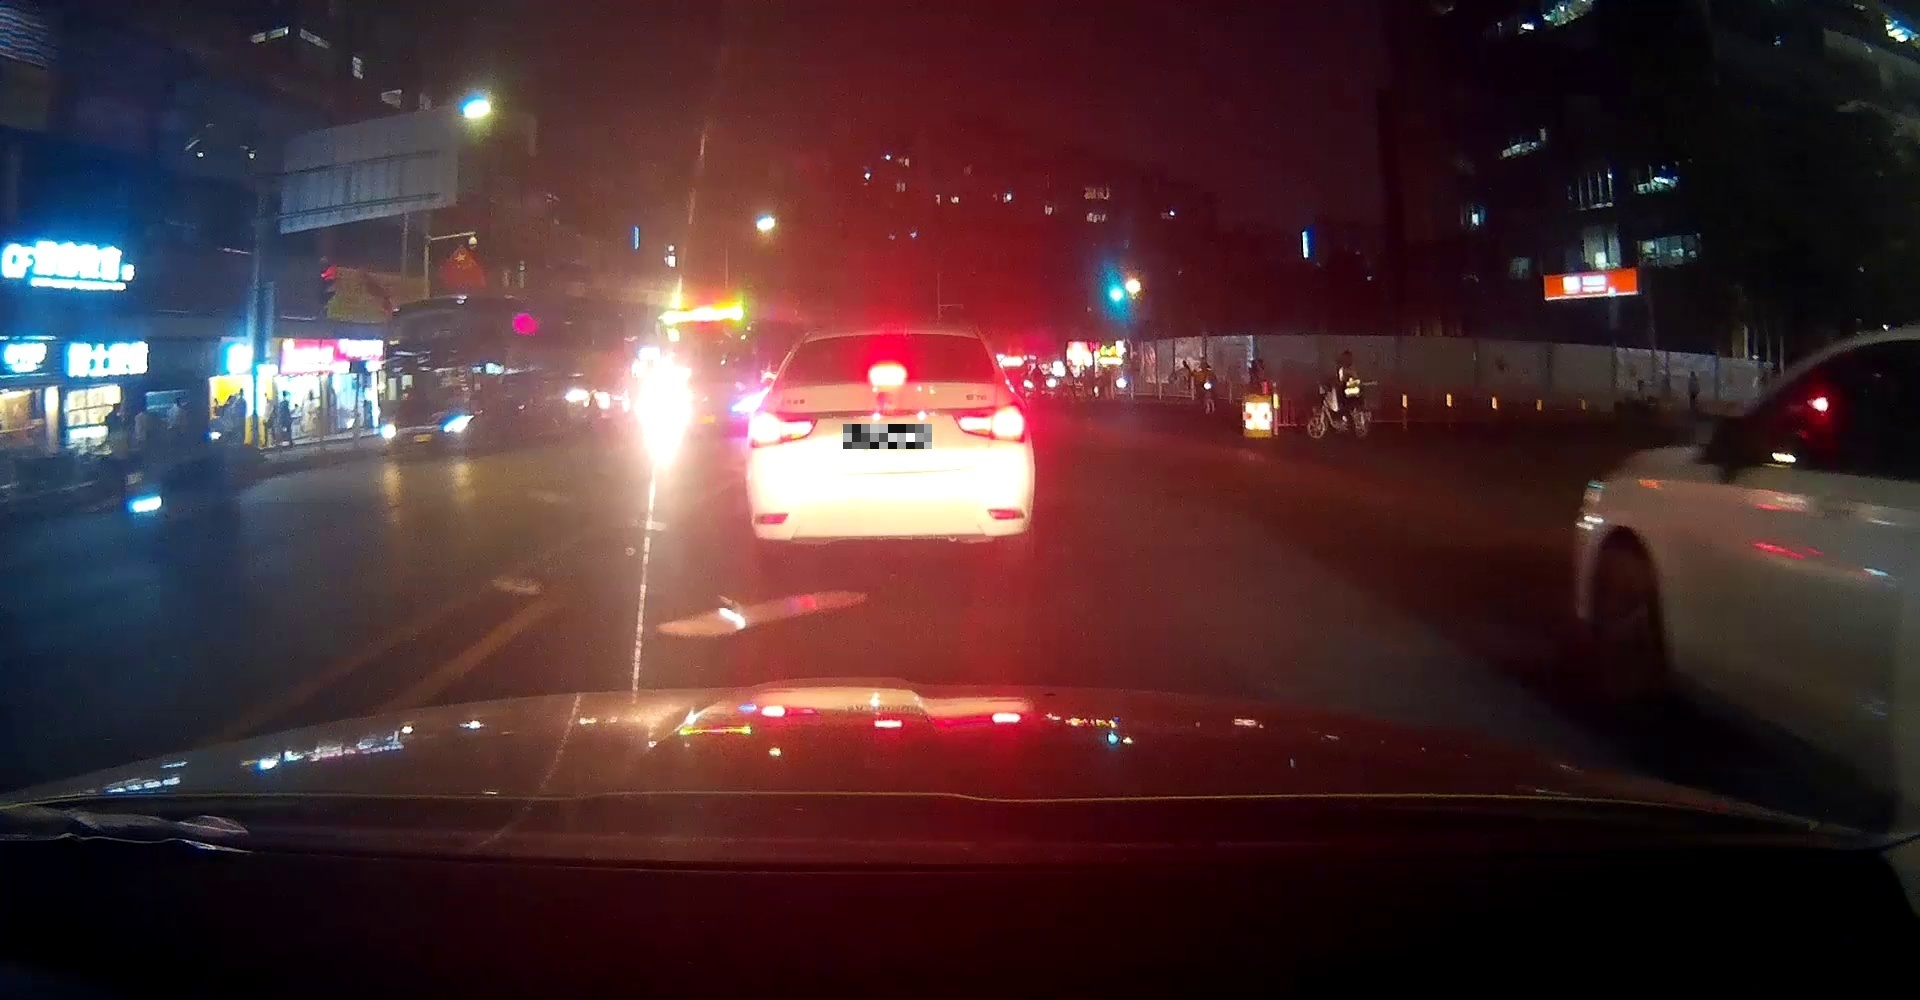L_light: (745, 409, 817, 447)
R_light: (952, 400, 1026, 443)
T_light: (869, 362, 905, 382)
night-brake: (743, 327, 1035, 574)
plate_1: (843, 424, 932, 449)
